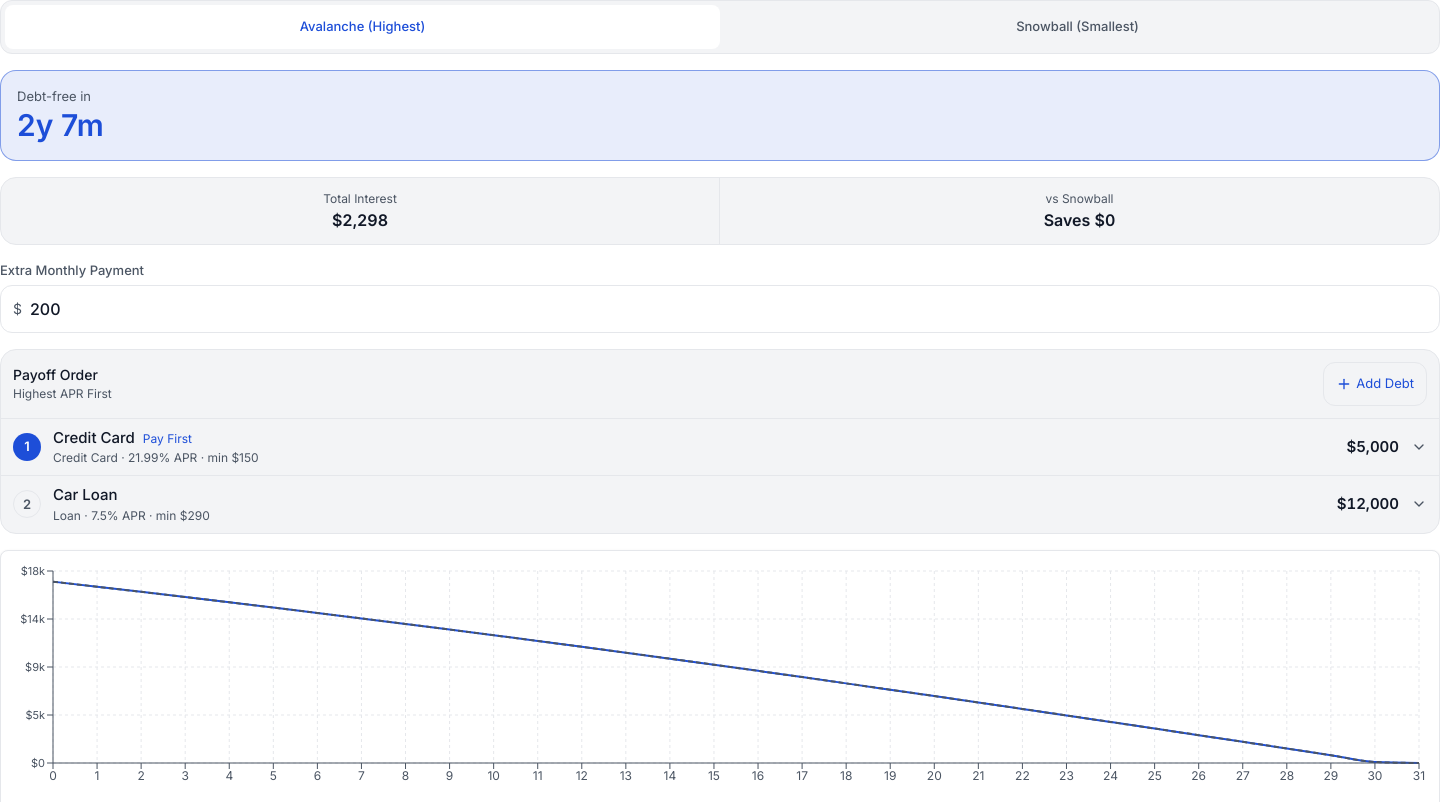
Test: adds a debt and opens it for editing
Click the button "Add Debt". click: (1375, 384)
box: top-left (1323, 362), bottom-right (1427, 406)
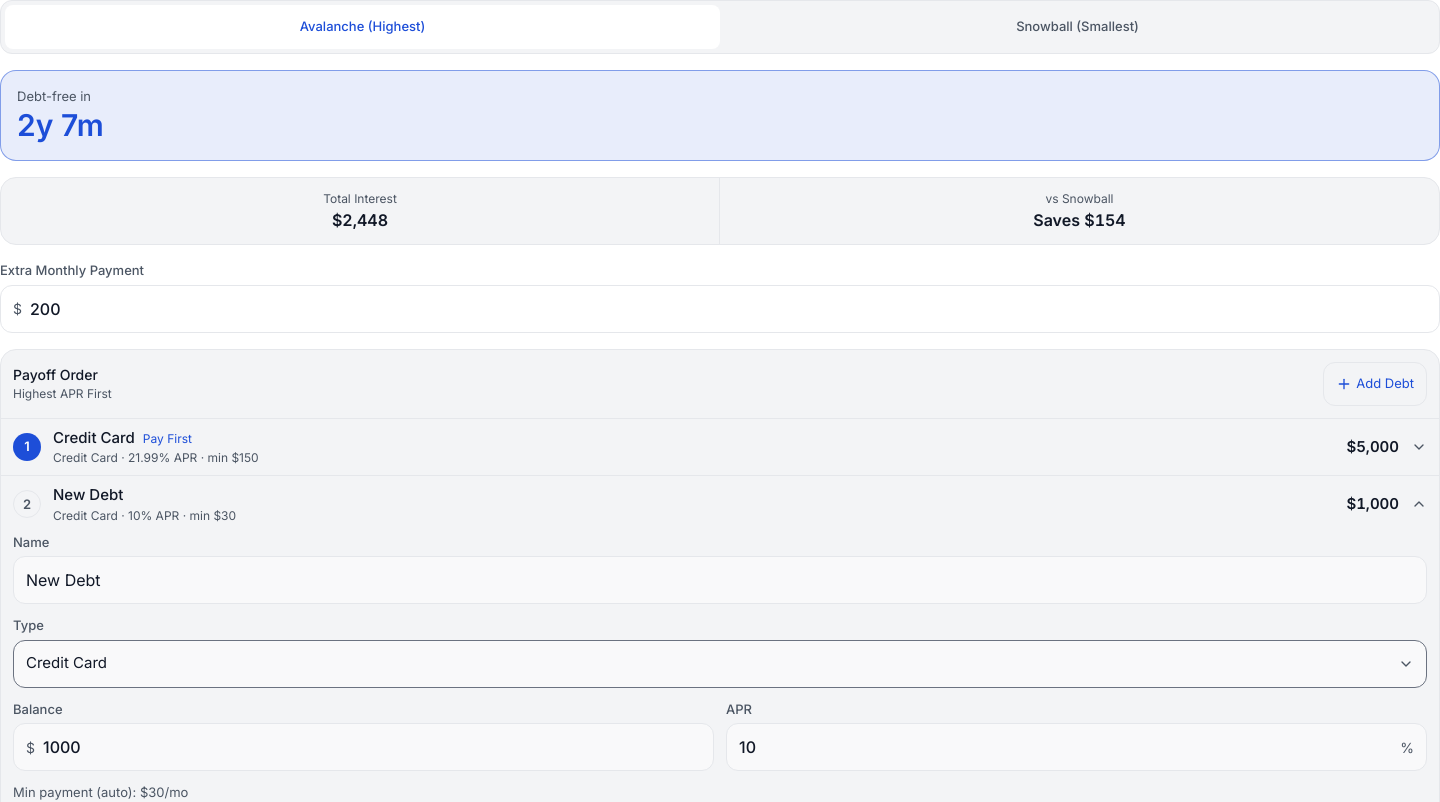
Expected: the field labelled "Name" holds "New Debt", top-left (13, 556), bottom-right (1427, 604)
